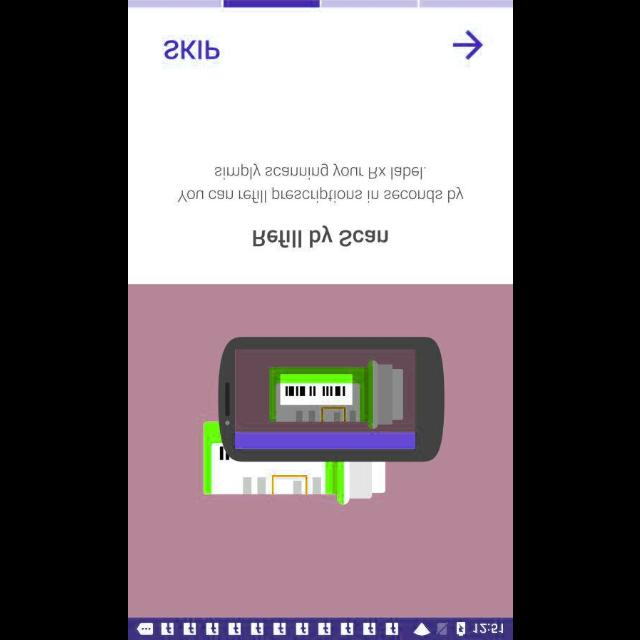icon: (452, 30, 482, 60)
image: (202, 336, 444, 504)
text: (176, 162, 464, 204), (252, 224, 388, 248), (163, 40, 220, 60)
uppertaskbar: (128, 617, 512, 639)
